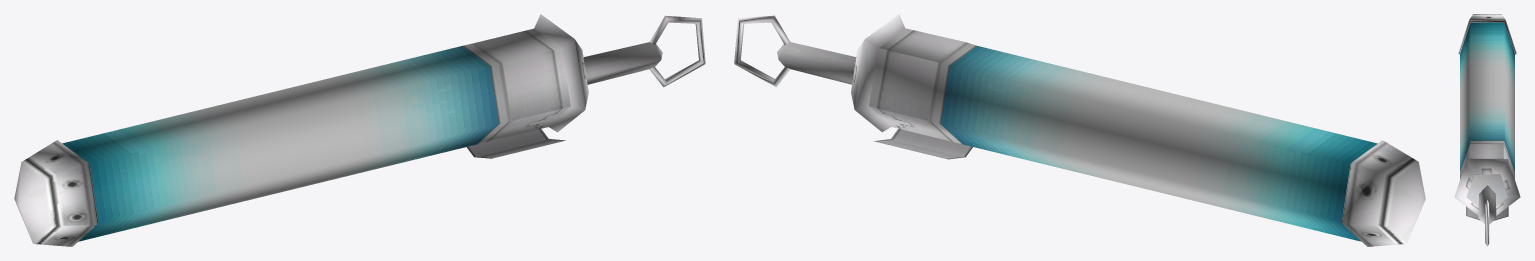
Rendered from eqp_tool_glow_rod_l1.fbx.
The picture shows the model from 3 angles, left to right: view 1: azimuth 30°, elevation 25°; view 2: azimuth 150°, elevation 25°; view 3: azimuth 270°, elevation 25°; orthographic projection. The views are drawn at different scales.
Visible parts, largest first — view 1: mesh_node; view 2: mesh_node; view 3: mesh_node.
Boxes of the visible parts, <box> form: mesh_node: <box>14,14,705,246</box>; mesh_node: <box>734,14,1425,246</box>; mesh_node: <box>1454,14,1520,246</box>.
Bounding box in the file's own units: 0.4011 × 0.0616 × 0.0556.
